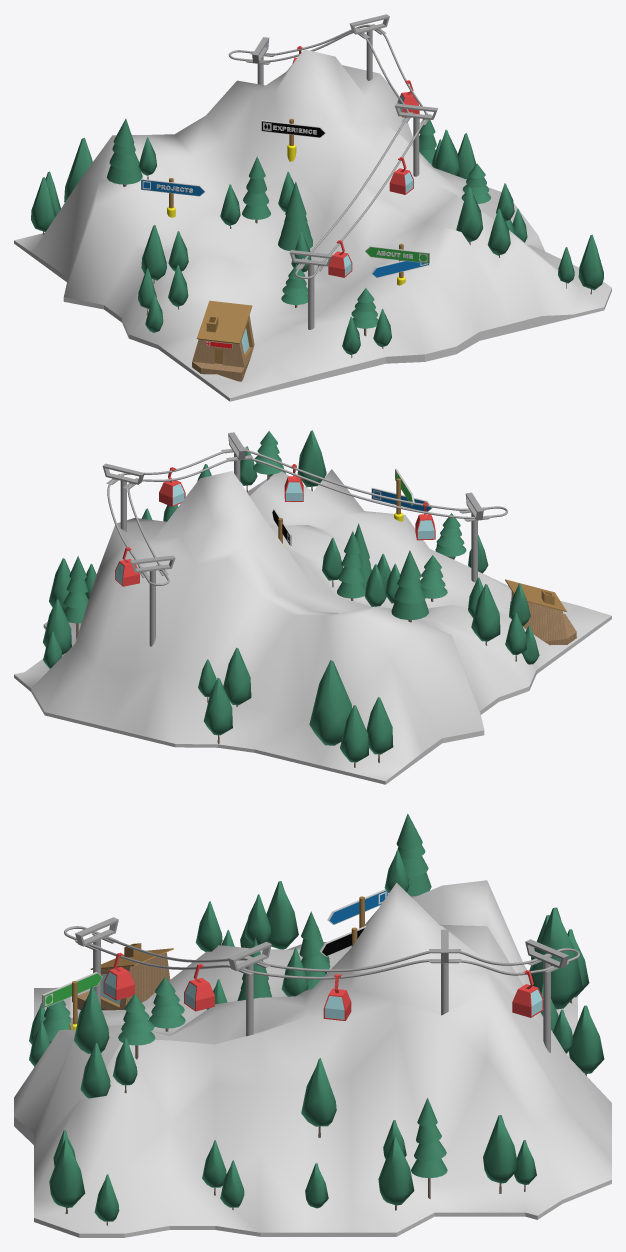
The model's file is environment.glb.
3 views of the same model, one above another, from view 1: azimuth 30°, elevation 25°; view 2: azimuth 150°, elevation 25°; view 3: azimuth 270°, elevation 25° (orthographic). The views are drawn at different scales.
Parts seen in each view (by area): view 1: TERRAIN.003, HUT.003, CABLES.004, FOLIAGE.048, FOLIAGE.054, FOLIAGE.034, TOWERS.009, FOLIAGE.014, FOLIAGE.024, FOLIAGE.058, TOWERS.008, FOLIAGE.033 (+18 smaller); view 2: TERRAIN.003, CABLES.004, FOLIAGE.032, HUT.003, FOLIAGE.048, FOLIAGE.034, FOLIAGE.023, FOLIAGE.058, FOLIAGE.013, FOLIAGE.008, FOLIAGE.031, FOLIAGE.033 (+19 smaller); view 3: TERRAIN.003, CABLES.004, HUT.003, FOLIAGE.032, FOLIAGE.008, FOLIAGE.048, FOLIAGE.014, FOLIAGE.052, FOLIAGE.053, FOLIAGE.028, FOLIAGE.024, FOLIAGE.023 (+27 smaller).
Boxes of the visible parts, x1,y1,x2,y2 form: TERRAIN.003: (14,49,611,401); HUT.003: (192,300,254,381); CABLES.004: (228,24,427,278); FOLIAGE.048: (107,119,142,184); FOLIAGE.054: (278,181,312,250); FOLIAGE.034: (242,156,270,219); TOWERS.009: (289,250,332,329); FOLIAGE.014: (578,234,603,290); FOLIAGE.024: (456,187,483,242); FOLIAGE.058: (141,225,166,280); TOWERS.008: (395,103,437,176); FOLIAGE.033: (31,177,56,232); TERRAIN.003: (14,469,611,784); CABLES.004: (107,449,507,585); FOLIAGE.032: (309,660,351,745); HUT.003: (505,579,576,645); FOLIAGE.048: (391,550,428,619); FOLIAGE.034: (337,531,365,598); FOLIAGE.023: (203,678,232,735); FOLIAGE.058: (471,584,500,641); FOLIAGE.013: (340,705,368,762); FOLIAGE.008: (63,556,88,623); FOLIAGE.031: (223,647,251,705); FOLIAGE.033: (366,697,393,754); TERRAIN.003: (14,880,611,1237); CABLES.004: (64,926,579,979); HUT.003: (77,943,173,1010); FOLIAGE.032: (529,907,582,1009); FOLIAGE.008: (411,1098,447,1178); FOLIAGE.048: (396,813,431,896); FOLIAGE.014: (49,1139,85,1207); FOLIAGE.052: (378,1137,414,1205); FOLIAGE.053: (483,1115,518,1183); FOLIAGE.028: (301,1058,336,1126); FOLIAGE.024: (74,985,109,1053); FOLIAGE.023: (569,1005,604,1073).
Bounding box in the file's own units: 41.27 × 18.1 × 40.23.
Materials: 14 (1 with a texture image).
